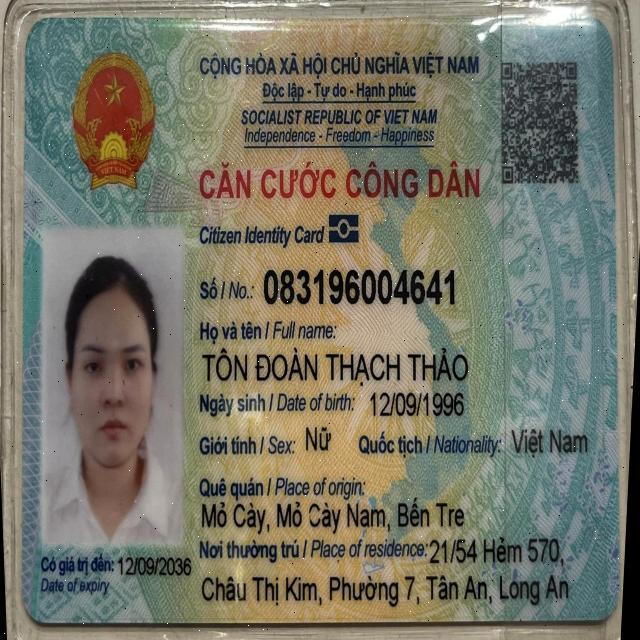current_place: (201, 562, 573, 611), (425, 525, 569, 571)
dob: (369, 391, 466, 420)
expire_date: (115, 551, 194, 585)
gender: (303, 417, 334, 460)
id: (263, 266, 459, 311)
name: (199, 345, 474, 390)
nationality: (507, 424, 593, 458)
origin_place: (196, 493, 470, 534)
